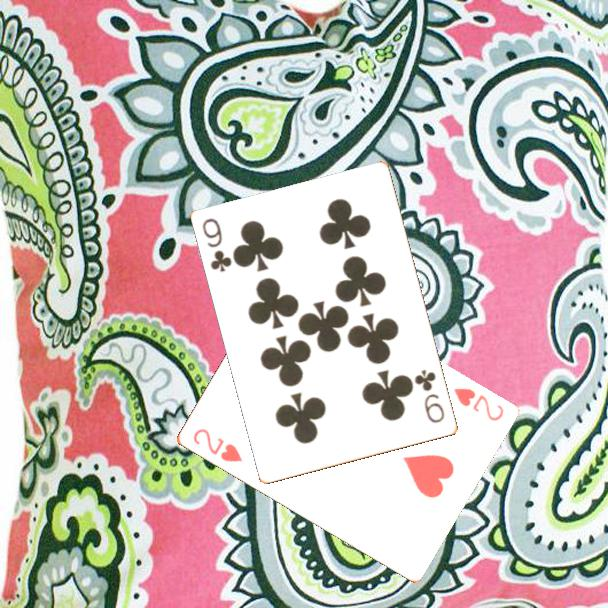c09: (411, 366, 448, 426), (199, 215, 235, 275)
h02: (189, 425, 245, 465), (450, 384, 506, 424)
